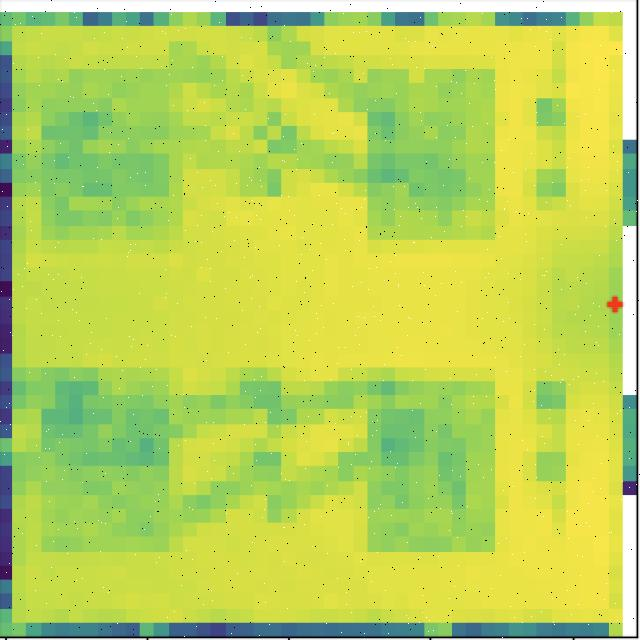Concrete: (39, 367, 174, 553)
Glass: (364, 69, 499, 245)
Metal: (37, 62, 184, 247)
Wood: (366, 370, 497, 554)
